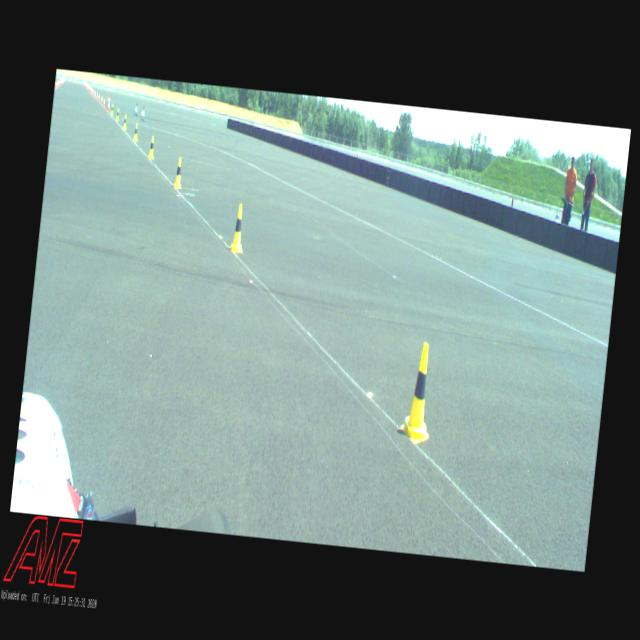large_orange_cone: (105, 94, 109, 110), (106, 96, 110, 110)
orange_cone: (100, 95, 103, 104), (102, 97, 105, 106)
yellow_cone: (399, 340, 438, 444), (229, 204, 247, 252), (172, 156, 184, 188), (148, 136, 156, 158), (132, 123, 139, 141), (121, 114, 128, 130), (115, 108, 120, 120), (110, 104, 114, 115)
